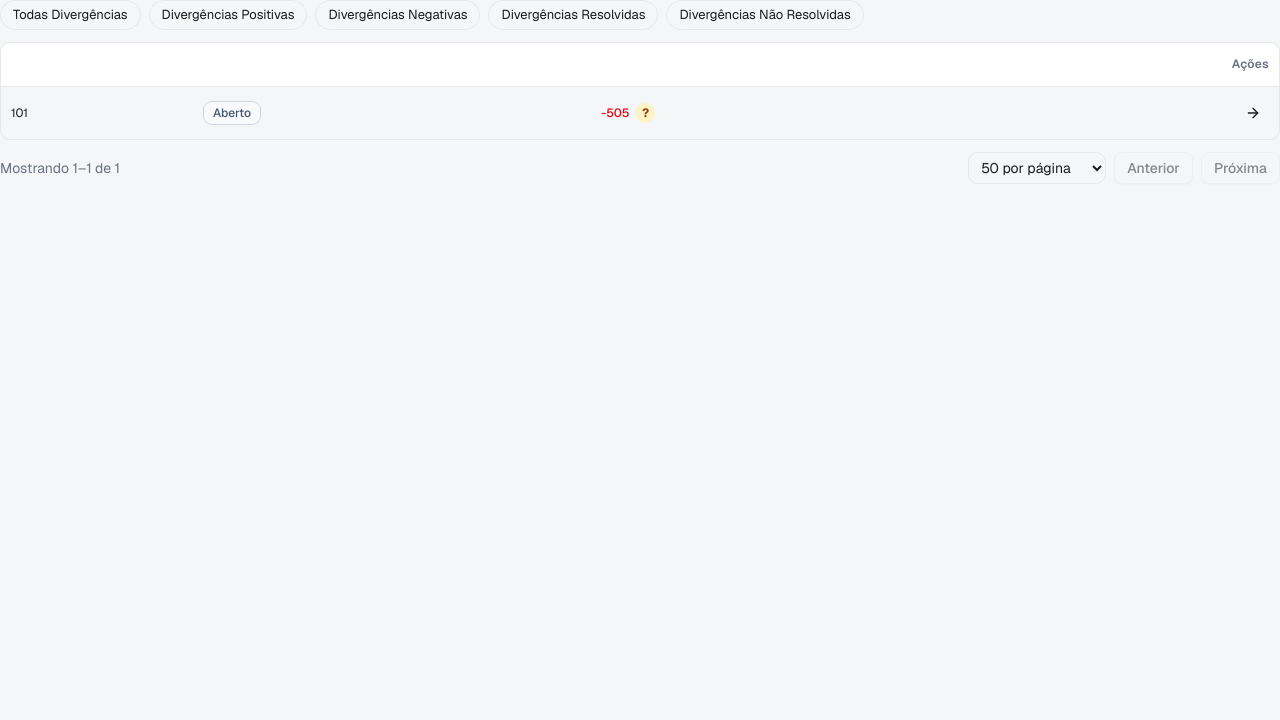
Test case: contexto da divergência dentro do diálogo › com a coluna do Código OCULTA no layout, o diálogo mostra o código de todo jeito
Click the button named "Divergência ": (646, 113) left=636, top=103, right=656, bottom=123
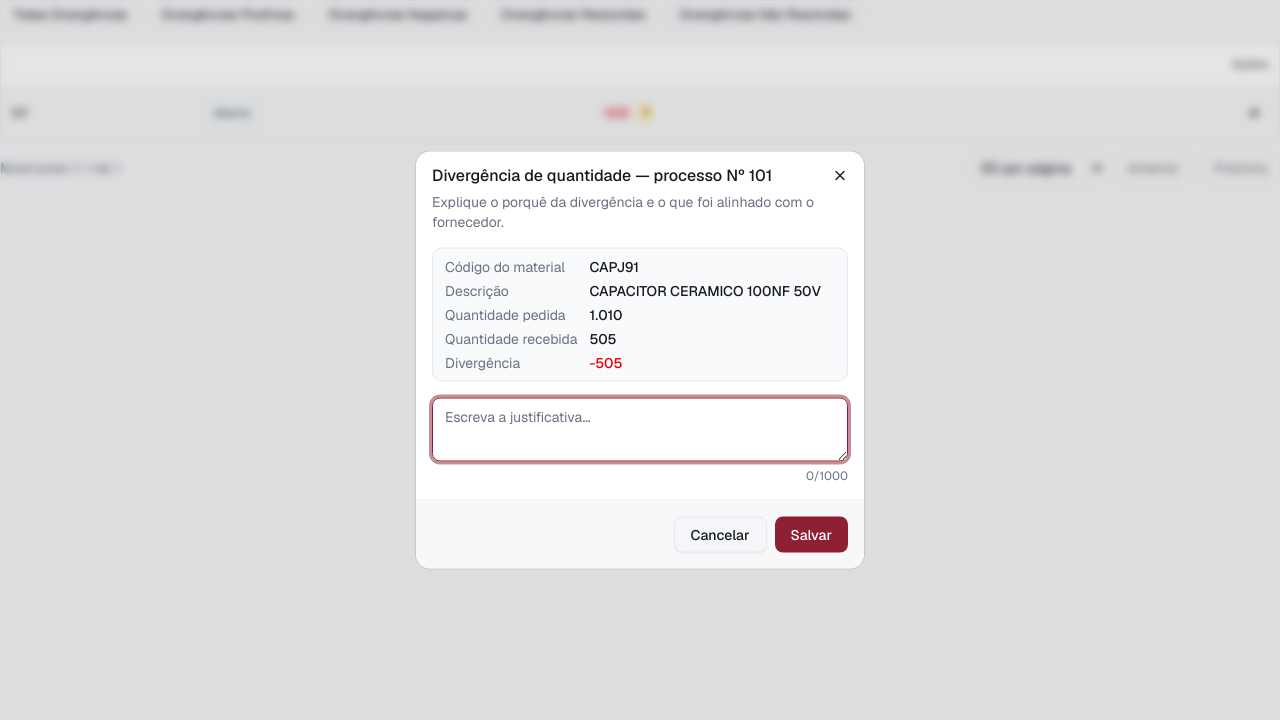
Expected: the text "CAPJ91" is shown, left=590, top=258, right=639, bottom=276
